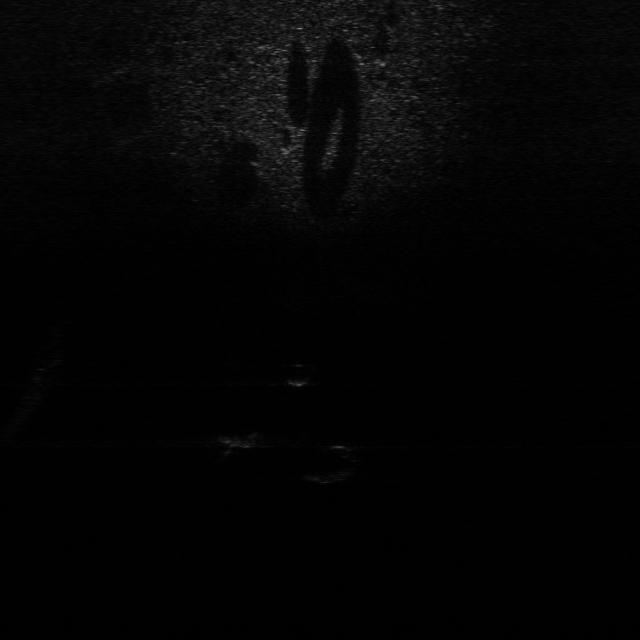ball: (281, 357, 318, 388)
square cage: (211, 423, 268, 451)
tyre: (302, 442, 362, 485)
